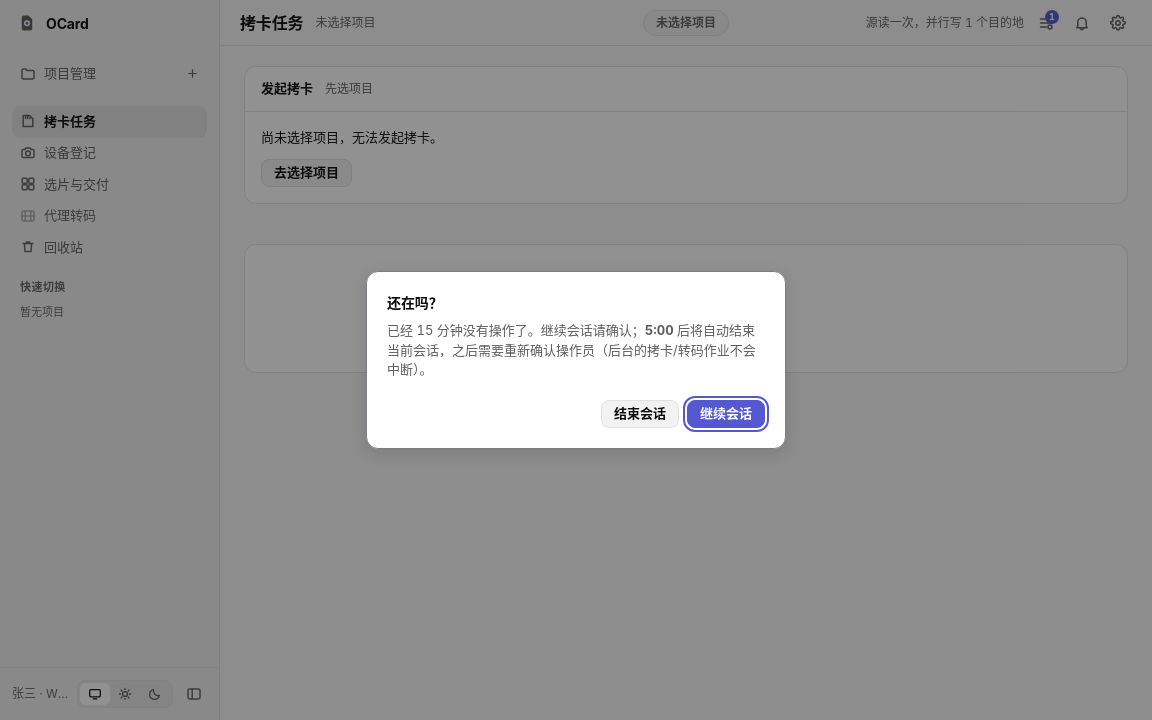
操作员确认门 › 沿用上一位要二次确认,确认后恢复会话
Click the button with test id "session-end".
click(640, 414)  # box [601,400,679,428]
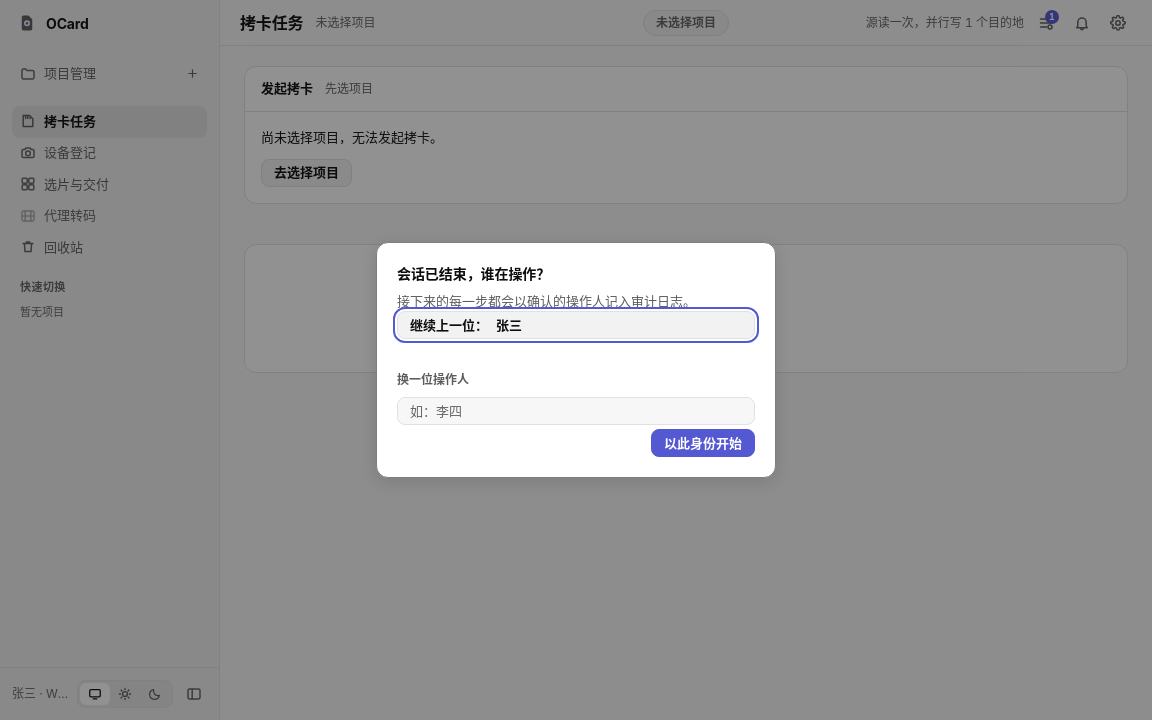
Click the button with test id "session-gate-last".
click(449, 324)  # box [397,311,755,339]
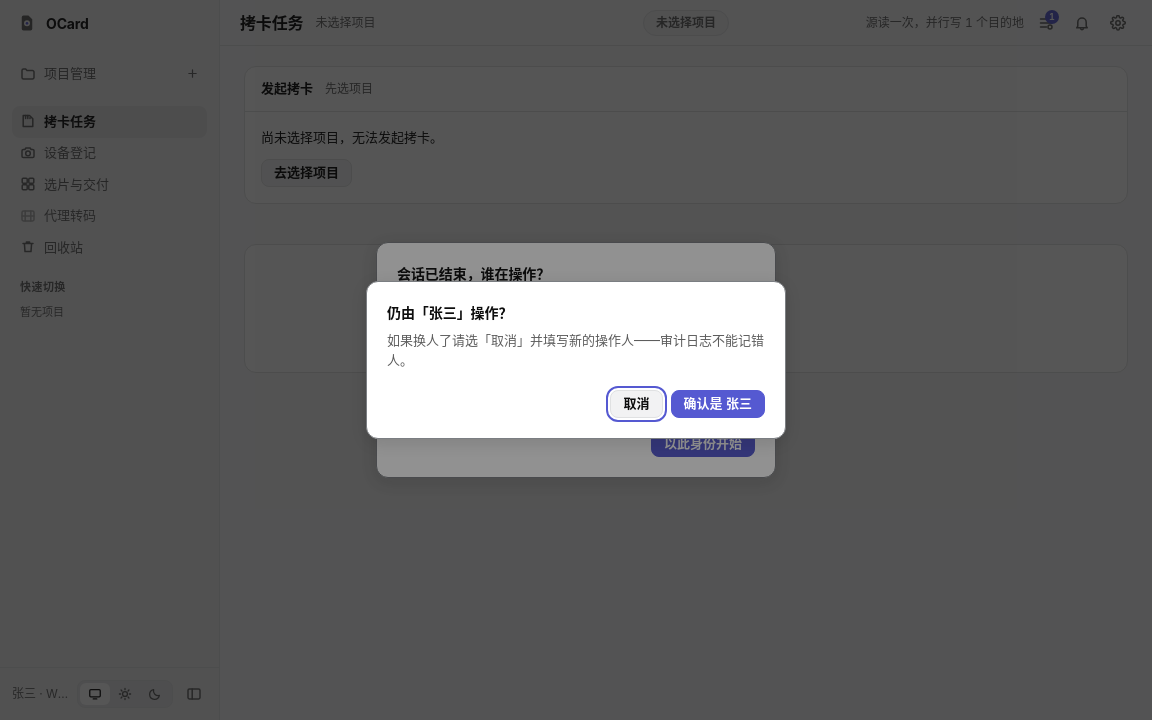
Check: the element with test id "session-gate" is shown
Check: the heading "仍由「张三」操作？" is shown, box [387,304,512,321]
Click the button "确认是 张三".
click(718, 404)  # box [670,390,765,418]
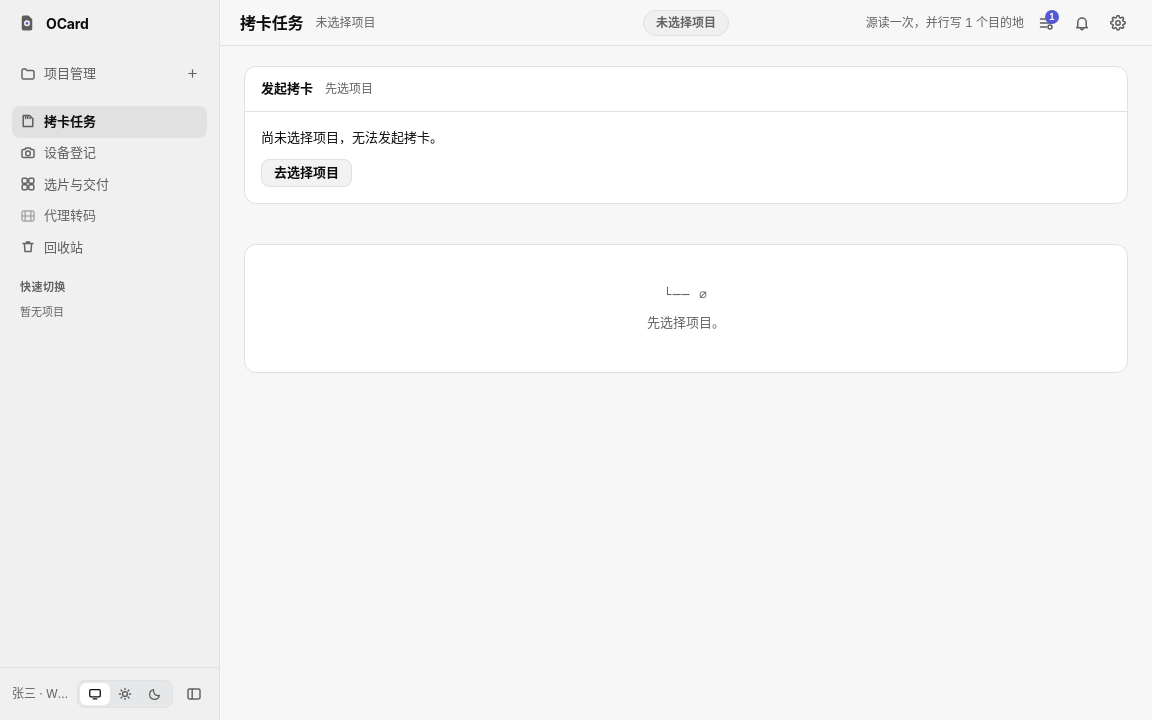
Check: the element with test id "session-gate" is gone
